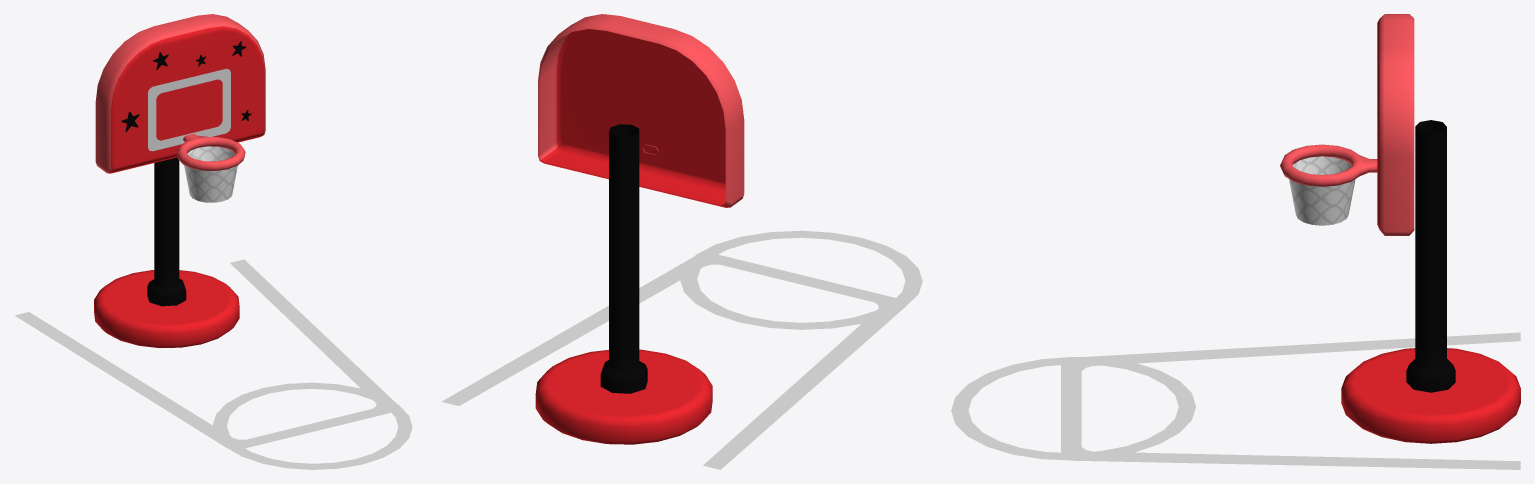
The model's file is Basketball.obj.
3 renders of one model, left to right at view 1: azimuth 30°, elevation 25°; view 2: azimuth 150°, elevation 25°; view 3: azimuth 270°, elevation 25°, orthographic. The views are drawn at different scales.
Visible parts, largest first — view 1: Basketball_Court, Basketball_Court_Net; view 2: Basketball_Court; view 3: Basketball_Court, Basketball_Court_Net.
Part boxes in pixels (bbox=[...]): Basketball_Court: bbox=[14, 14, 412, 469]; Basketball_Court_Net: bbox=[184, 146, 237, 202]; Basketball_Court: bbox=[441, 14, 922, 469]; Basketball_Court: bbox=[951, 14, 1520, 469]; Basketball_Court_Net: bbox=[1289, 156, 1355, 225].
Size of the model in its own units: 1.82 by 2.32 by 3.19.
Materials: 2 (2 with a texture image).
